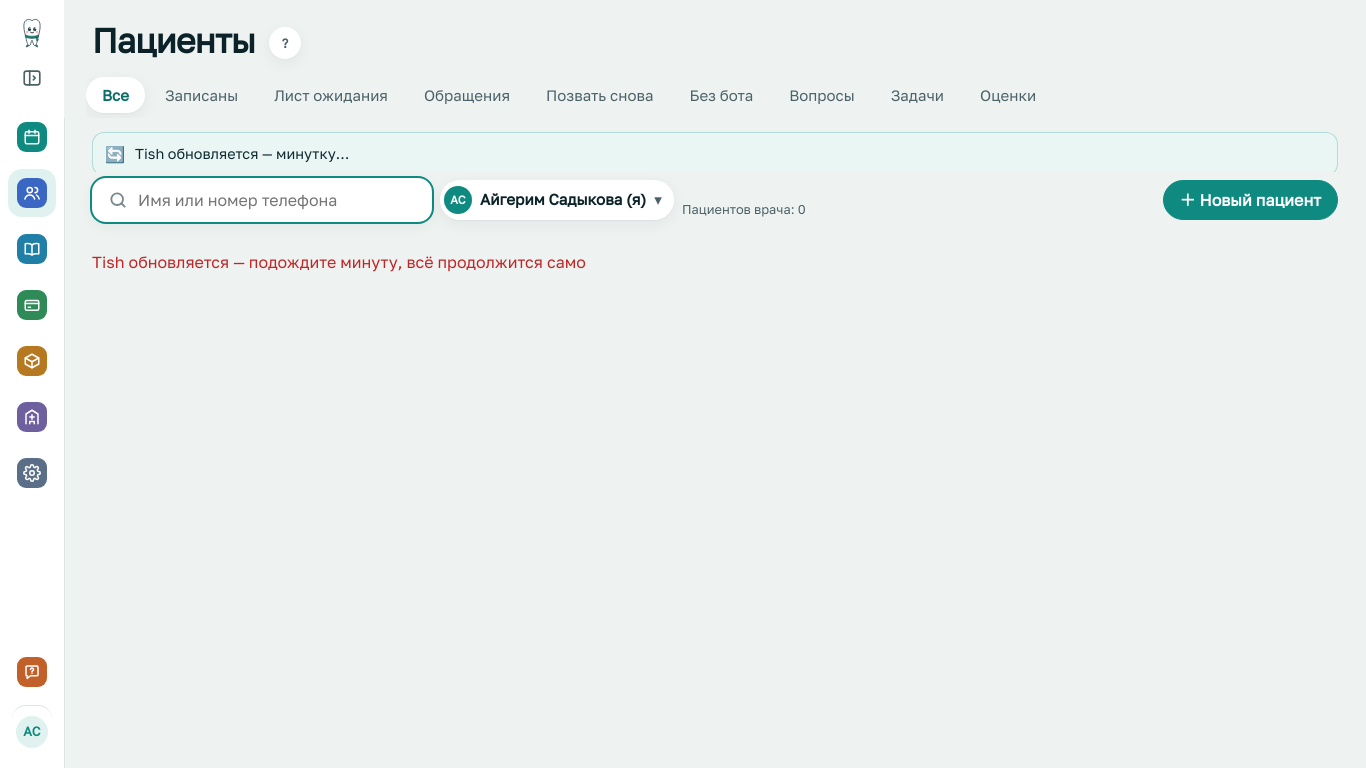
Test case: «Не напомнили» → «Отметить напомненными (N)»: вопрос, отметка reminder-opened каждому, без отправки сообщений
Expected: the navigation bar named "Разделы" is shown, [8, 113, 56, 497]
Click the link "Записаны" at (202, 95), box [165, 86, 238, 104]
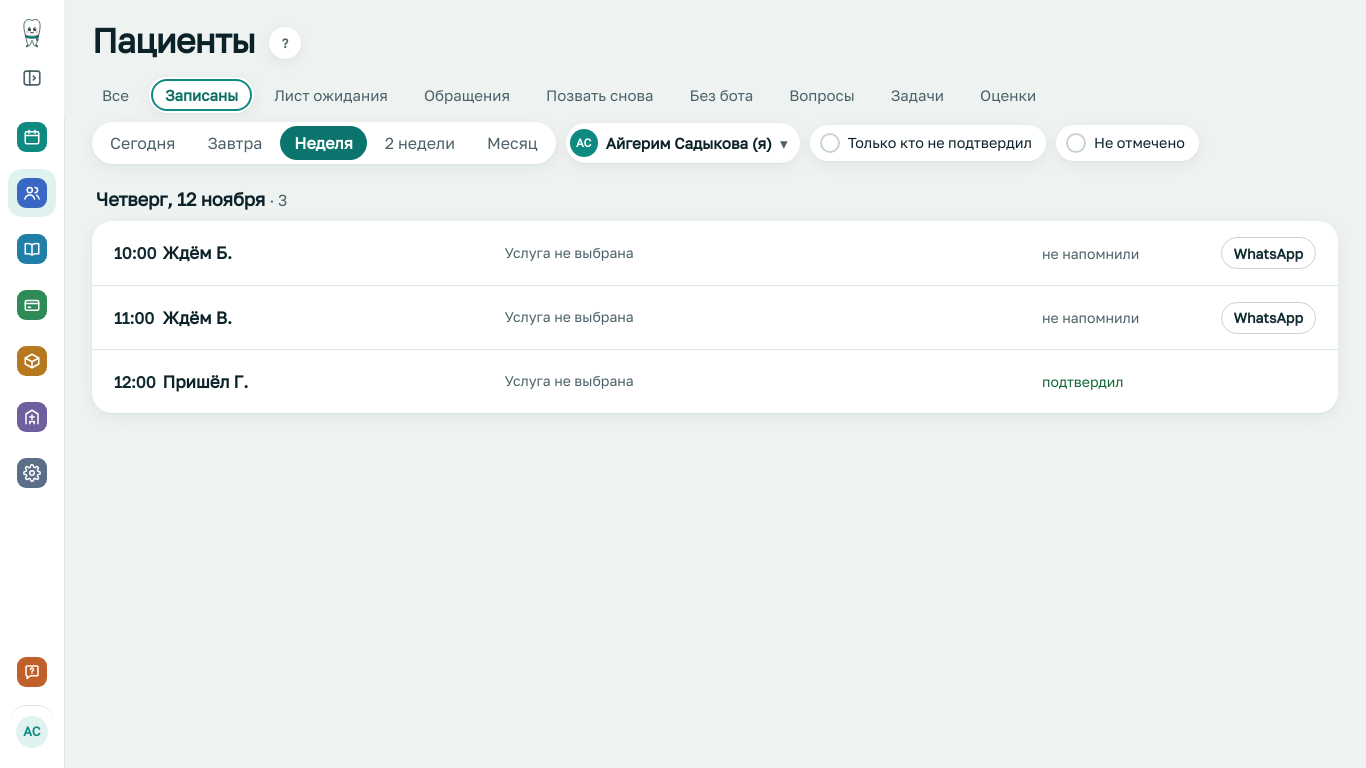
Click the button "Завтра" at (235, 143), box [193, 126, 276, 160]
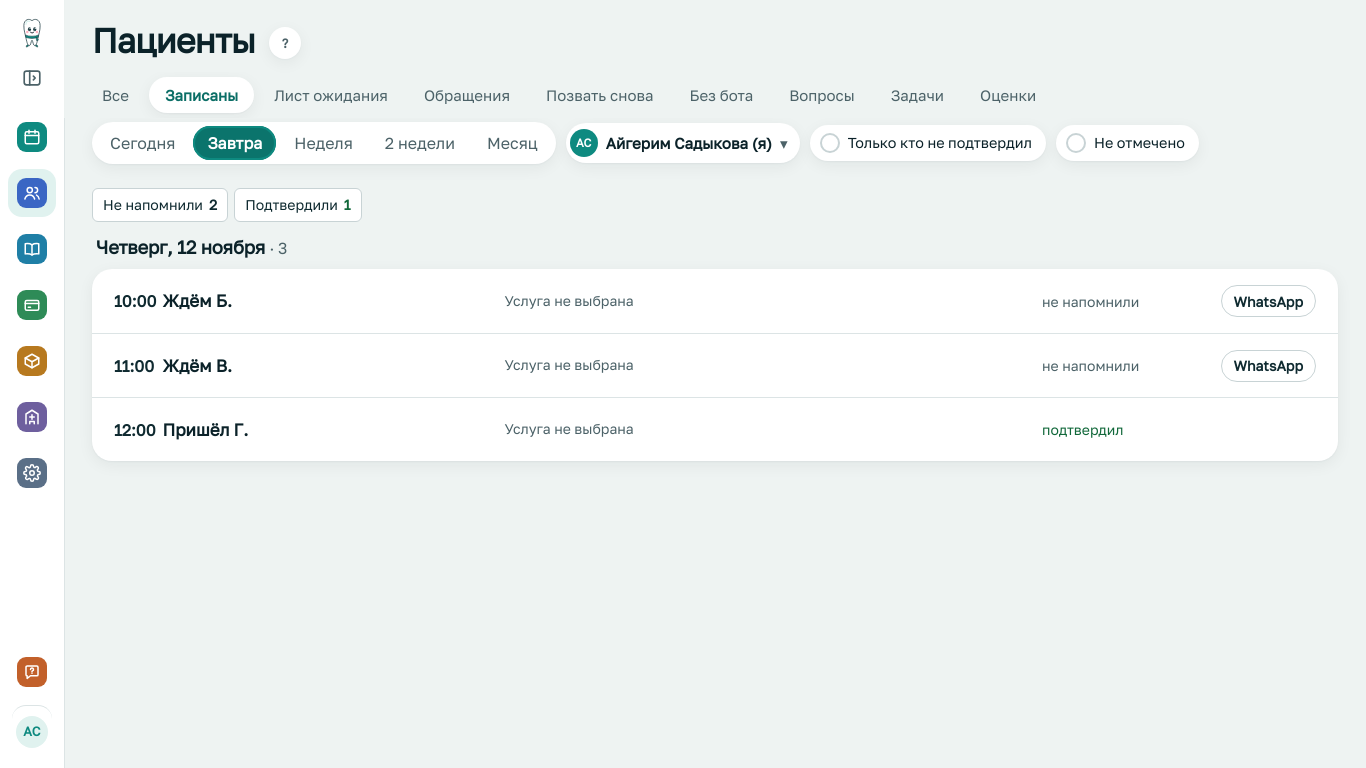
Expected: the button "Отметить напомненными" is not shown
Click the button "Не напомнили 2" at (160, 205), box [92, 188, 228, 222]
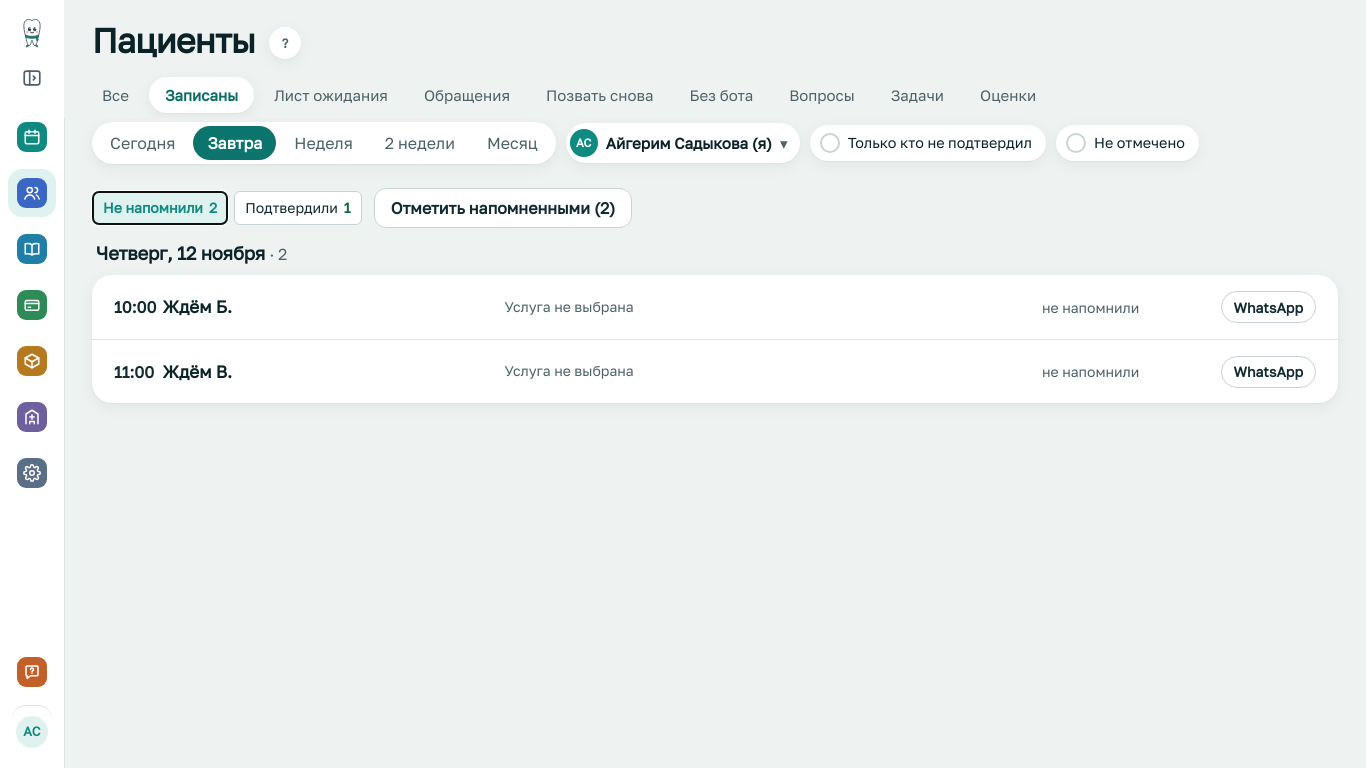
Click the button "Отметить напомненными (2)" at (503, 208), box [374, 188, 632, 228]
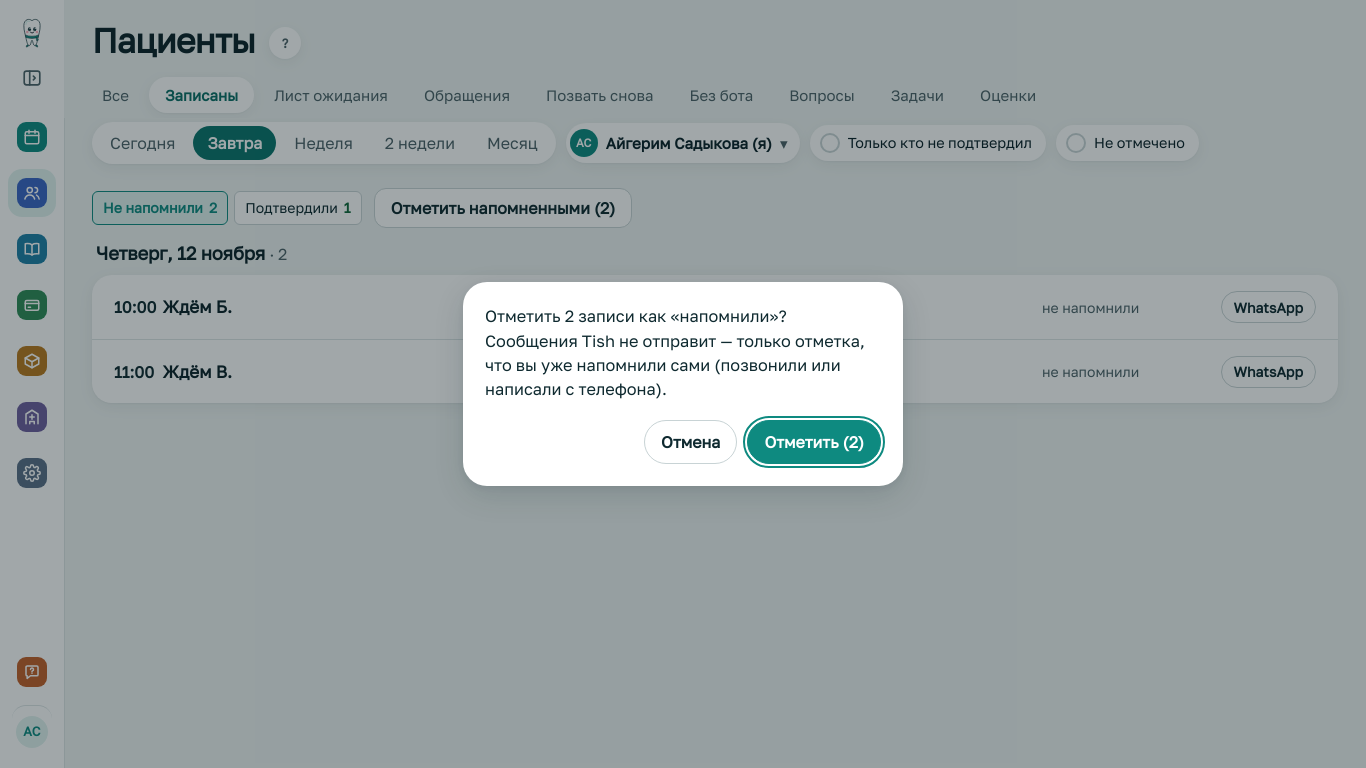
Expected: the dialog shows "Отметить 2 записи как «напомнили»? Сообщения Tish не отправит", [485, 306, 865, 400]
Click the button "Отметить (2)" at (814, 442), box [747, 420, 881, 464]
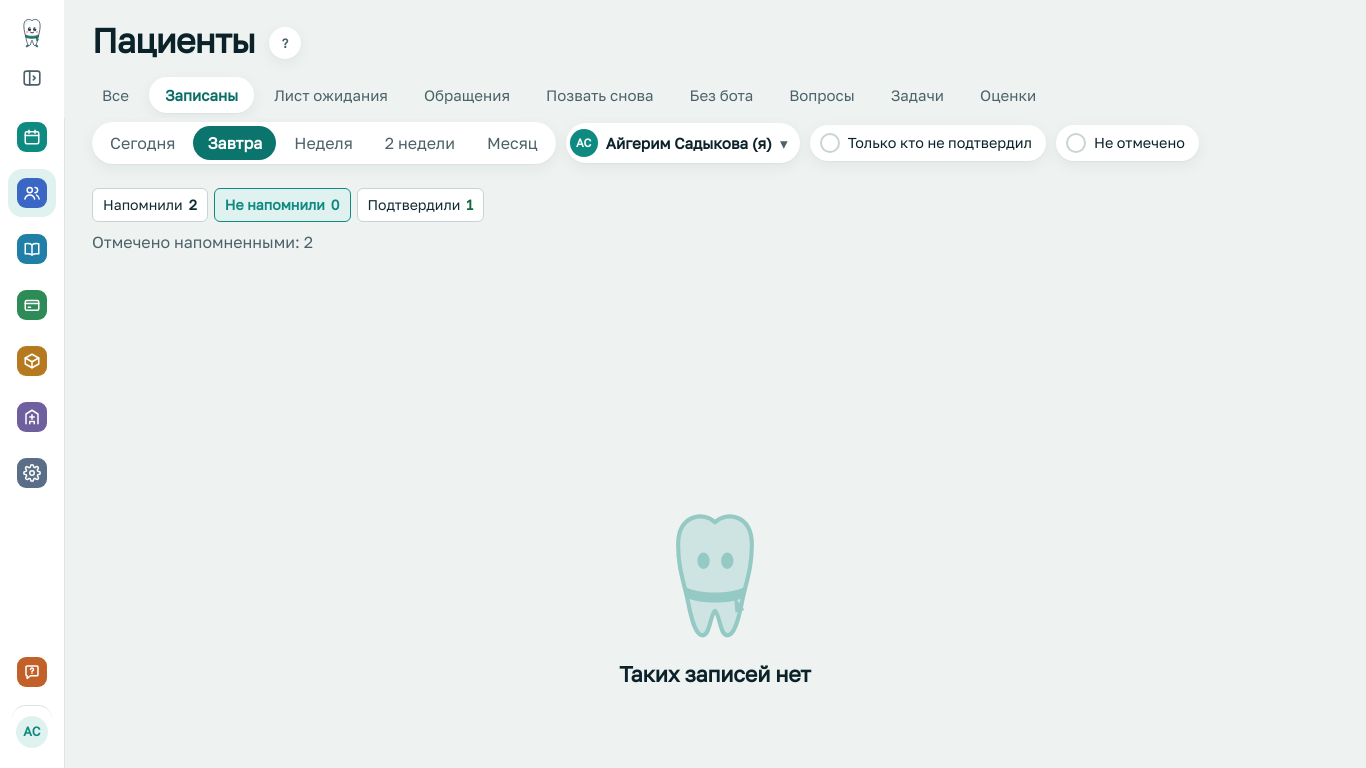
Expected: the button "Напомнили 2" is shown, [92, 188, 208, 222]
Expected: the message reads "Отмечено напомненными: 2", [92, 232, 313, 252]
